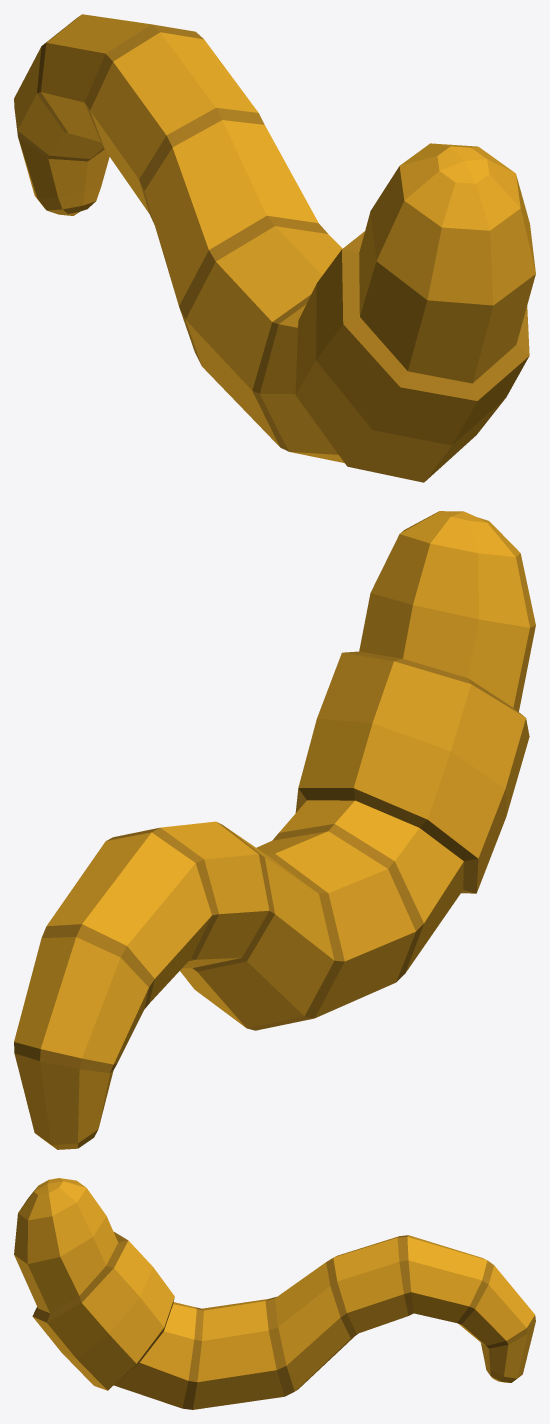
The model's file is item_golden_worm.glb.
3 views of the same model, one above another, from view 1: azimuth 30°, elevation 25°; view 2: azimuth 150°, elevation 25°; view 3: azimuth 270°, elevation 25° (orthographic). The views are drawn at different scales.
Visible parts, largest first — view 1: Cylinder; view 2: Cylinder; view 3: Cylinder.
Part boxes in pixels (x1,y1,x2,y2): Cylinder: [14, 14, 535, 482]; Cylinder: [14, 511, 535, 1149]; Cylinder: [14, 1178, 535, 1409].
Size of the model in its own units: 0.359 by 0.7137 by 1.49.
